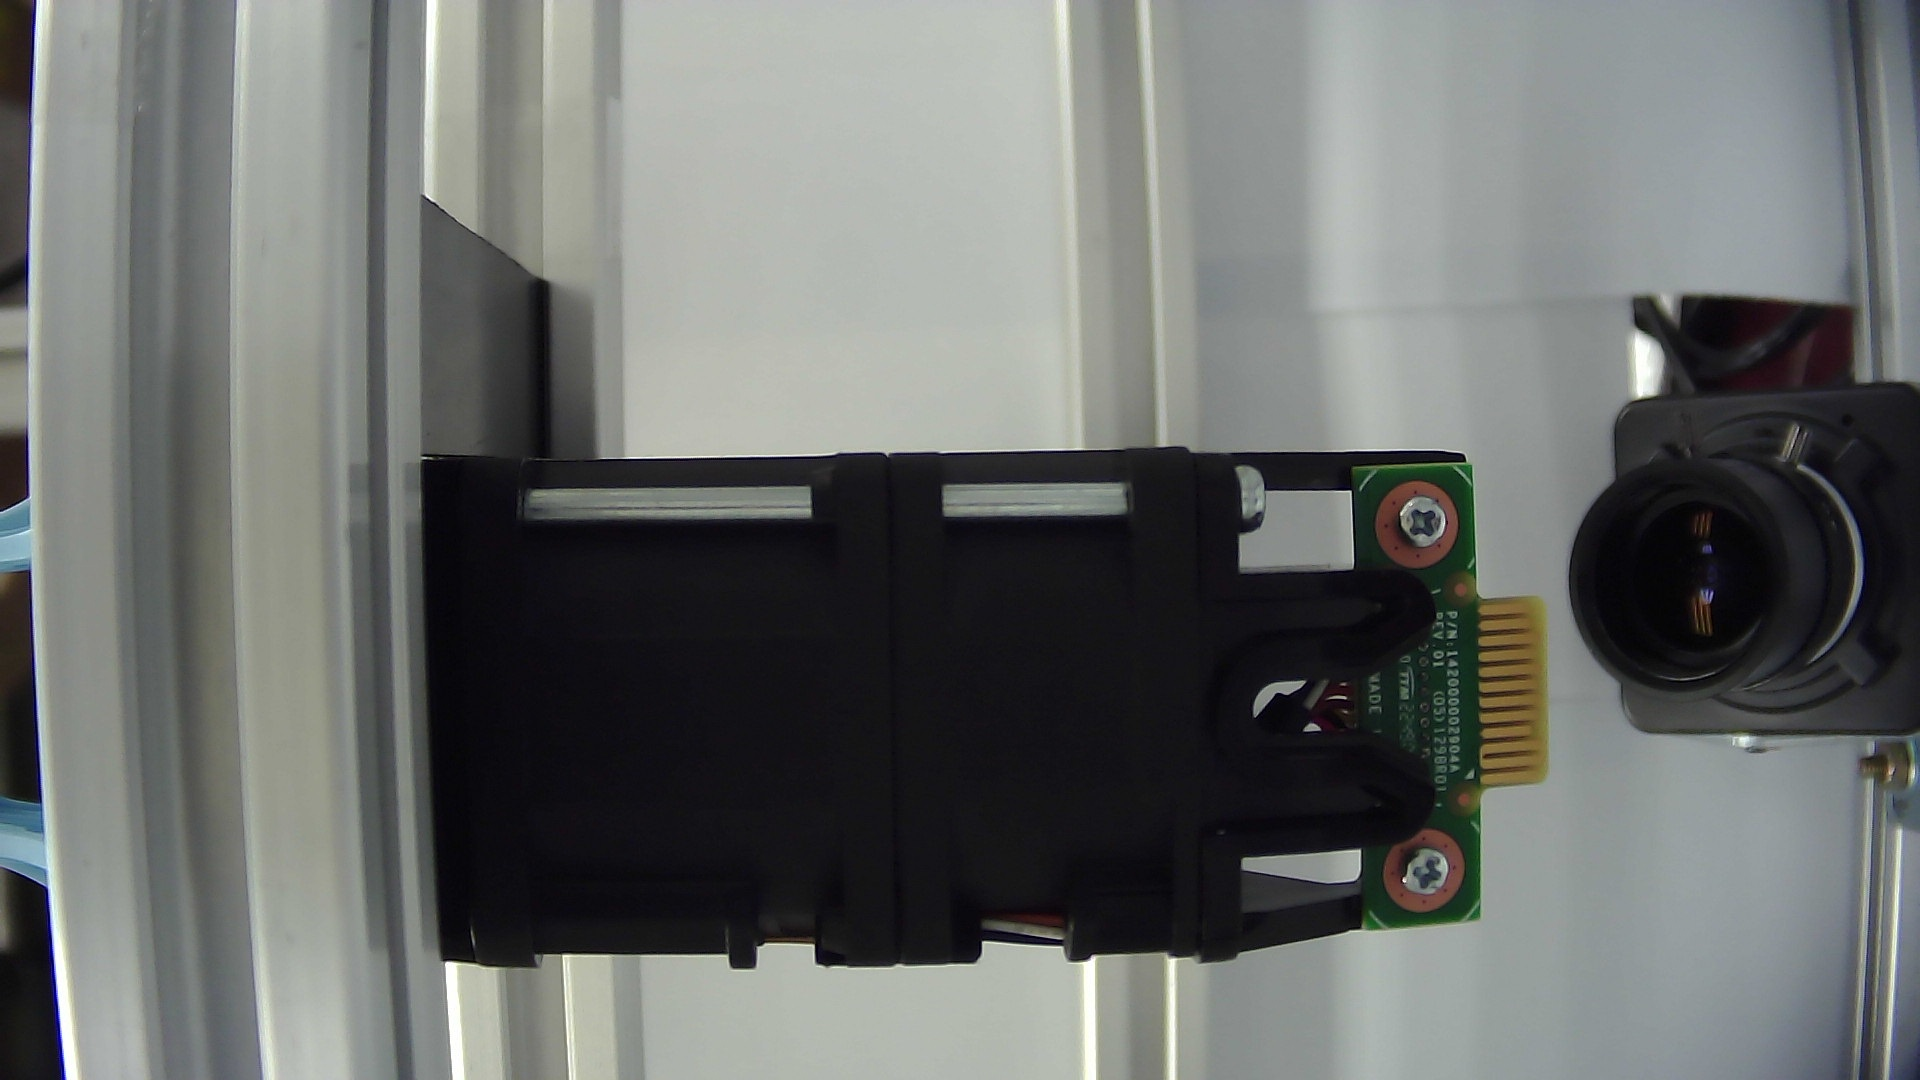5_0: (378, 400, 1563, 1035)
